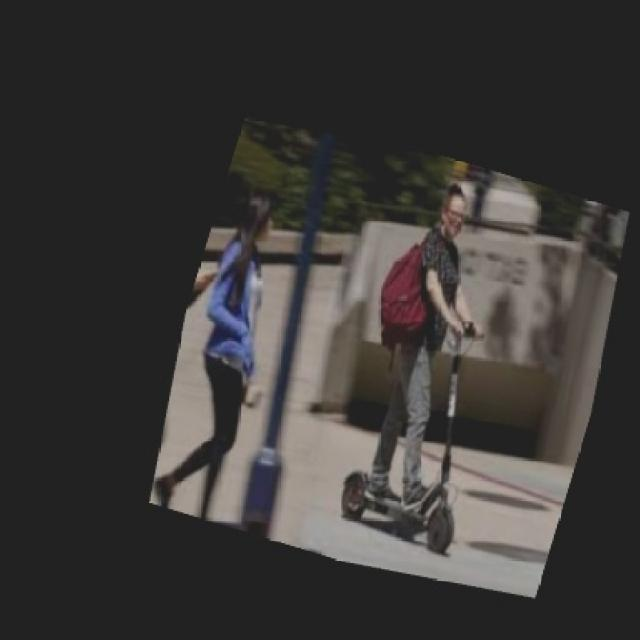bare_head: (429, 171, 487, 239)
human: (339, 160, 487, 482)
kickboard: (309, 454, 474, 555)
